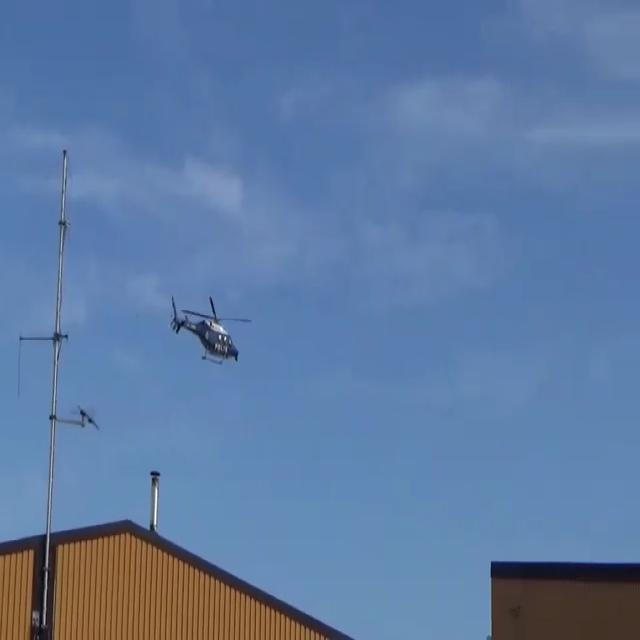Helicopter: (155, 268, 259, 398)
